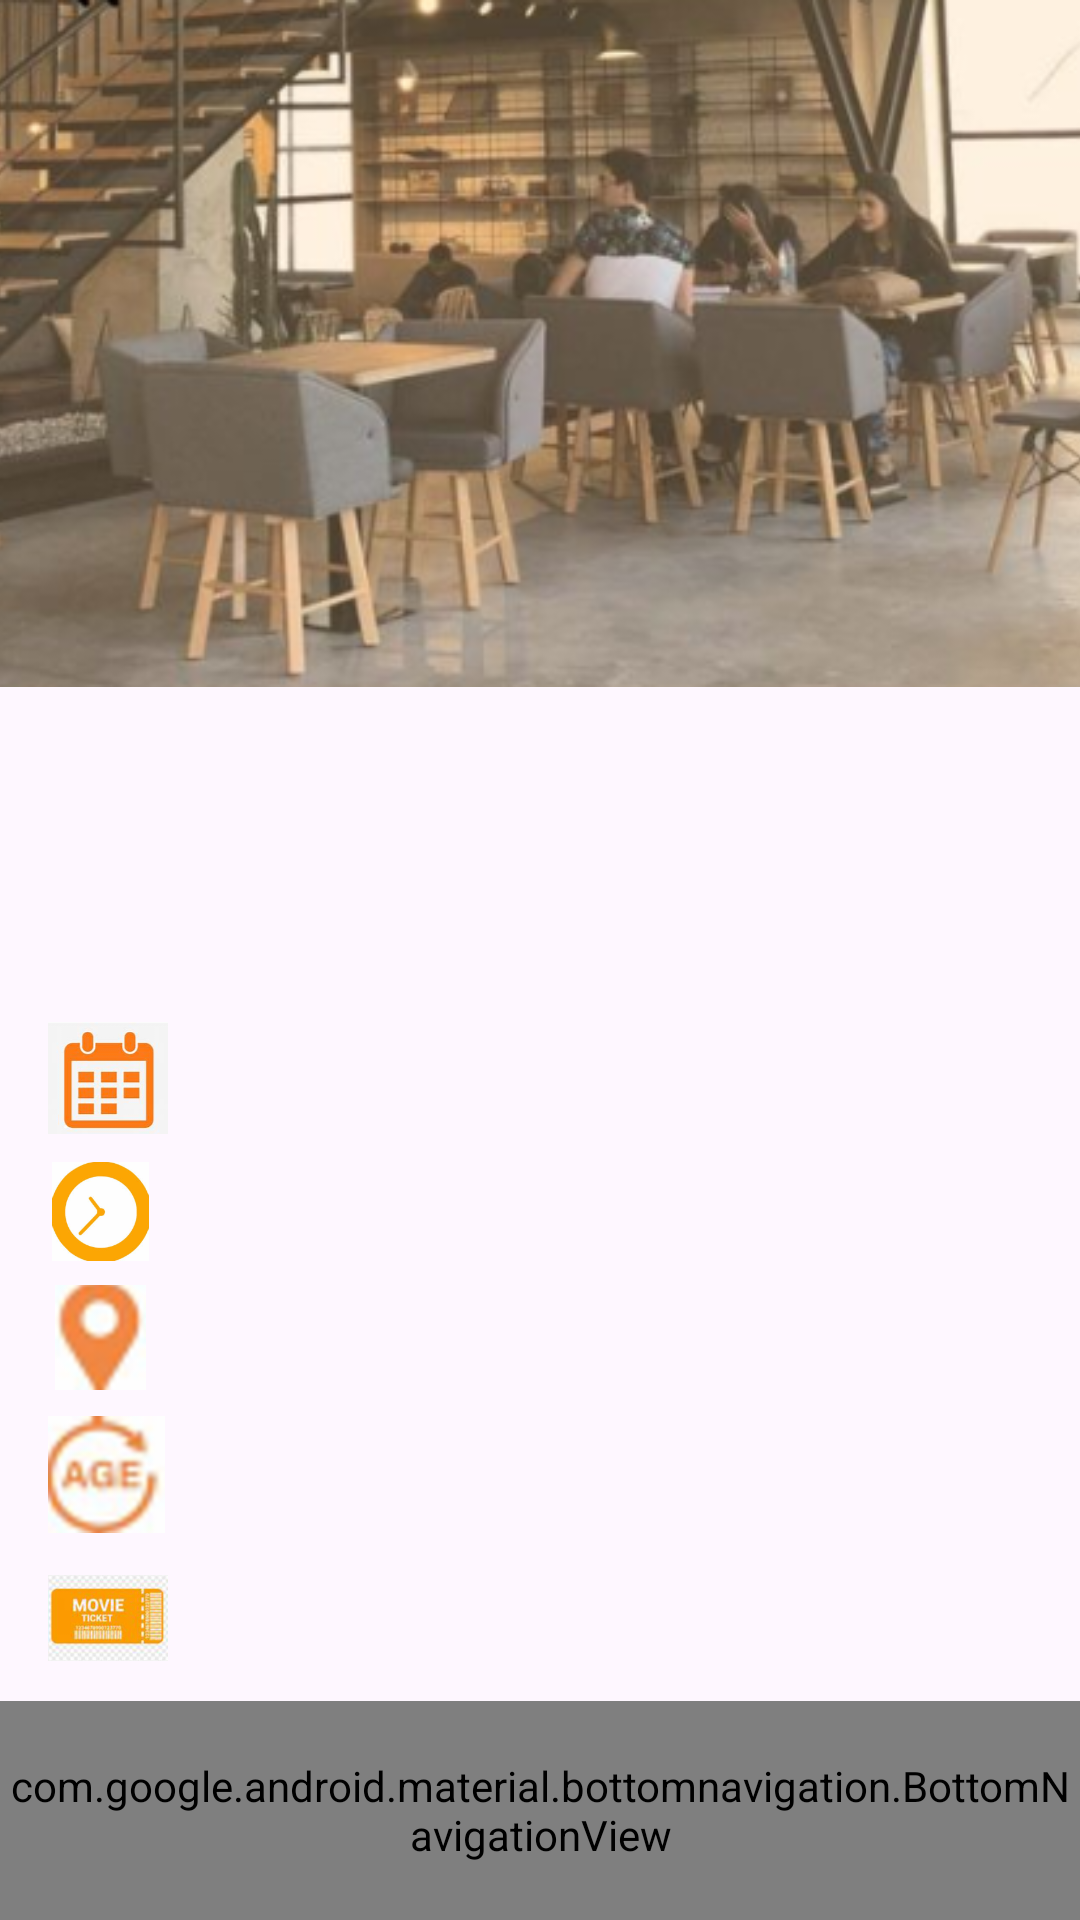

Icons on this 1080 × 1920 Android screen, each with its box as (x1, y1, x2, y2):
Calendar icon: (58, 1030, 155, 1131)
time: (52, 1162, 149, 1261)
